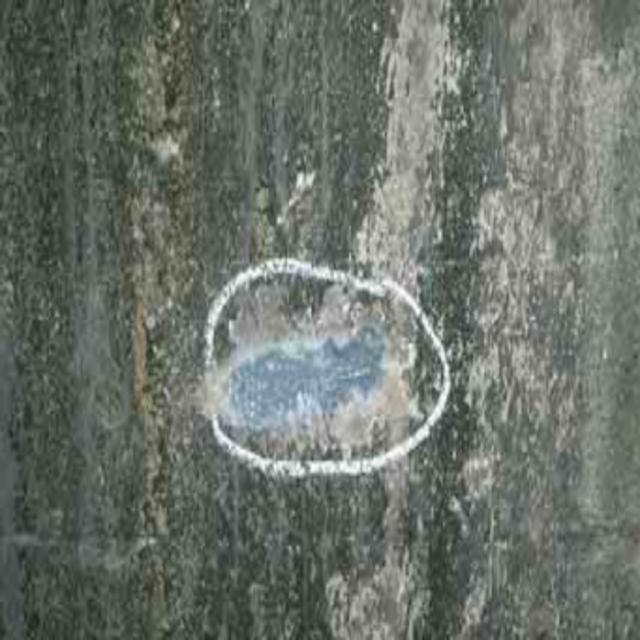spalling: (203, 303, 404, 457)
